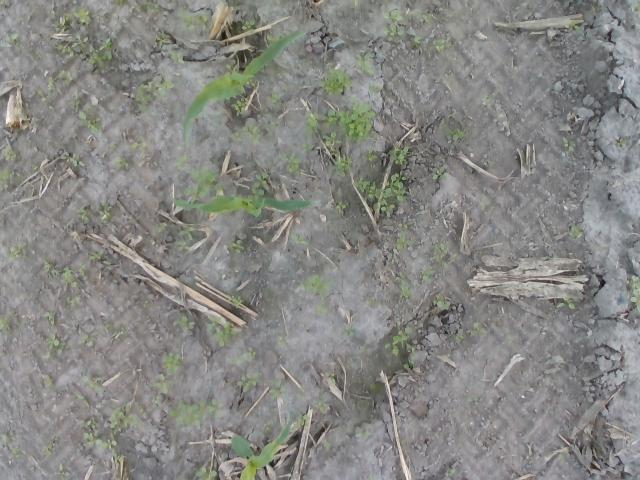Maize: (182, 29, 308, 147), (231, 418, 294, 480), (173, 192, 320, 216)
Weeds: (326, 98, 378, 142), (353, 176, 395, 218), (184, 167, 222, 204), (70, 92, 102, 132), (167, 399, 205, 428), (318, 66, 354, 96), (86, 38, 120, 68), (207, 316, 239, 347), (381, 7, 406, 42), (109, 404, 138, 434), (297, 274, 333, 297), (384, 326, 412, 355), (55, 35, 88, 58), (82, 420, 108, 448), (178, 10, 210, 31), (49, 4, 72, 32), (248, 172, 270, 198), (44, 334, 66, 360), (304, 110, 326, 136), (136, 80, 153, 112), (323, 132, 342, 158), (356, 52, 376, 76), (281, 151, 301, 175), (628, 274, 640, 314), (391, 174, 408, 202), (432, 243, 451, 268), (55, 265, 76, 287), (237, 372, 259, 393), (332, 154, 352, 177), (242, 122, 261, 146), (82, 374, 104, 394), (162, 352, 182, 374), (155, 76, 174, 99), (387, 146, 410, 165), (396, 271, 412, 298), (230, 95, 249, 116), (175, 316, 197, 334), (89, 248, 112, 265), (154, 374, 173, 394), (98, 201, 115, 223), (59, 152, 85, 166), (0, 30, 20, 48), (74, 8, 94, 26), (104, 322, 125, 339), (138, 0, 161, 15), (268, 380, 286, 399), (434, 34, 452, 53), (206, 398, 222, 419), (8, 242, 26, 260), (103, 438, 120, 457), (178, 222, 194, 241), (0, 170, 15, 190), (194, 467, 217, 480), (294, 412, 310, 430), (396, 233, 414, 249), (411, 10, 431, 24), (556, 296, 576, 310), (79, 332, 98, 346), (335, 324, 354, 338), (240, 19, 256, 34), (445, 128, 465, 140), (168, 50, 185, 64), (229, 239, 246, 253), (113, 156, 130, 170), (155, 30, 168, 48), (362, 148, 378, 162), (2, 146, 18, 160), (58, 70, 74, 84), (265, 33, 282, 46), (421, 264, 434, 281), (562, 136, 576, 151), (264, 120, 279, 134), (226, 295, 242, 308), (130, 140, 147, 152), (58, 463, 70, 480), (174, 154, 188, 168), (76, 208, 90, 222), (448, 111, 462, 125), (569, 224, 583, 238), (472, 322, 486, 336), (434, 296, 448, 310), (246, 346, 258, 362), (266, 92, 282, 104), (314, 401, 331, 412), (316, 301, 328, 316), (302, 138, 314, 153), (479, 196, 491, 211), (396, 218, 414, 228), (290, 234, 308, 244), (411, 34, 422, 50), (42, 443, 54, 457), (432, 168, 446, 180), (66, 296, 82, 306), (366, 297, 382, 307), (224, 63, 237, 75), (564, 20, 579, 30), (296, 386, 307, 399), (44, 374, 54, 388), (213, 114, 223, 128), (176, 241, 191, 250), (44, 311, 56, 322), (326, 371, 336, 384), (232, 354, 245, 364), (355, 430, 371, 438), (481, 93, 490, 107), (42, 260, 52, 272), (78, 262, 86, 277), (406, 344, 416, 356), (230, 132, 242, 142), (0, 317, 9, 330), (48, 76, 56, 90), (38, 88, 46, 102), (157, 222, 168, 232), (442, 74, 453, 84), (336, 201, 346, 212), (1, 432, 10, 444), (368, 85, 381, 93), (276, 336, 286, 346), (246, 78, 256, 88), (12, 446, 20, 458), (438, 118, 446, 130), (618, 138, 628, 147), (404, 360, 414, 368), (324, 440, 332, 450), (0, 0, 10, 8), (445, 468, 455, 476), (454, 334, 464, 342), (391, 251, 397, 264), (466, 396, 478, 402), (152, 397, 162, 404), (262, 422, 270, 430), (76, 394, 86, 400), (482, 161, 494, 166), (108, 144, 115, 152), (282, 85, 290, 91), (116, 0, 124, 6), (359, 344, 365, 352), (634, 3, 640, 10), (354, 0, 360, 7)
